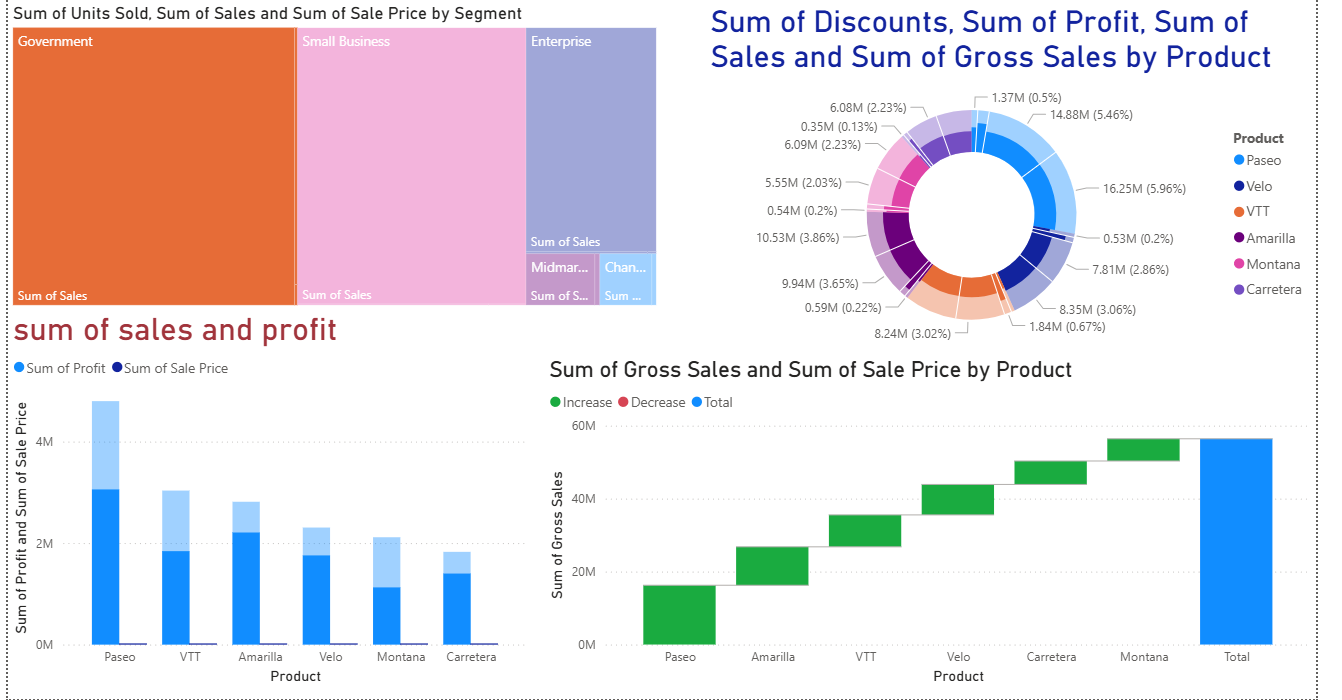

The dashboard page shown, as its layout file describes it:
{"tool":"powerbi","page":{"name":"Page 1","canvas":[1280,720],"ordinal":0},"visuals":[{"type":"donutChart","fields":{"Y":["Sum(financials (2).Discounts)","Sum(financials (2).Profit)","Sum(financials (2).Sales)","Sum(financials (2).Gross Sales)"],"Category":["financials (2).Product"]},"box":[682.3,39.1,598,346.1],"z":0},{"type":"clusteredColumnChart","title":"sum of sales and profit","fields":{"Category":["financials (2).Product"],"Y":["Sum(financials (2).Profit)","Sum(financials (2).Sale Price)"]},"box":[0,339.9,513.6,370.5],"z":2},{"type":"waterfallChart","fields":{"Y":["Sum(financials (2).Gross Sales)"],"Category":["financials (2).Product"]},"box":[524.6,385.2,755.7,325.3],"z":3},{"type":"treemap","fields":{"Group":["financials (2).Segment"],"Values":["Sum(financials (2).Units Sold)","Sum(financials (2).Sales)","Sum(financials (2).Sale Price)"]},"box":[0,39.1,639.5,300.8],"z":4}]}

Visuals, with their boxes on the page's 1280x720 design canvas (x1, y1, x2, y2). These are canvas units, not pixel positions in the 1342x700 screenshot, which may show the page scaled, cropped or inside an application window:
donutChart - Sum(financials (2).Discounts) x Sum(financials (2).Profit): x1=682 y1=39 x2=1280 y2=385
"sum of sales and profit" clusteredColumnChart: x1=0 y1=340 x2=514 y2=710
waterfallChart - Sum(financials (2).Gross Sales) x financials (2).Product: x1=525 y1=385 x2=1280 y2=710
treemap - financials (2).Segment x Sum(financials (2).Units Sold): x1=0 y1=39 x2=640 y2=340
